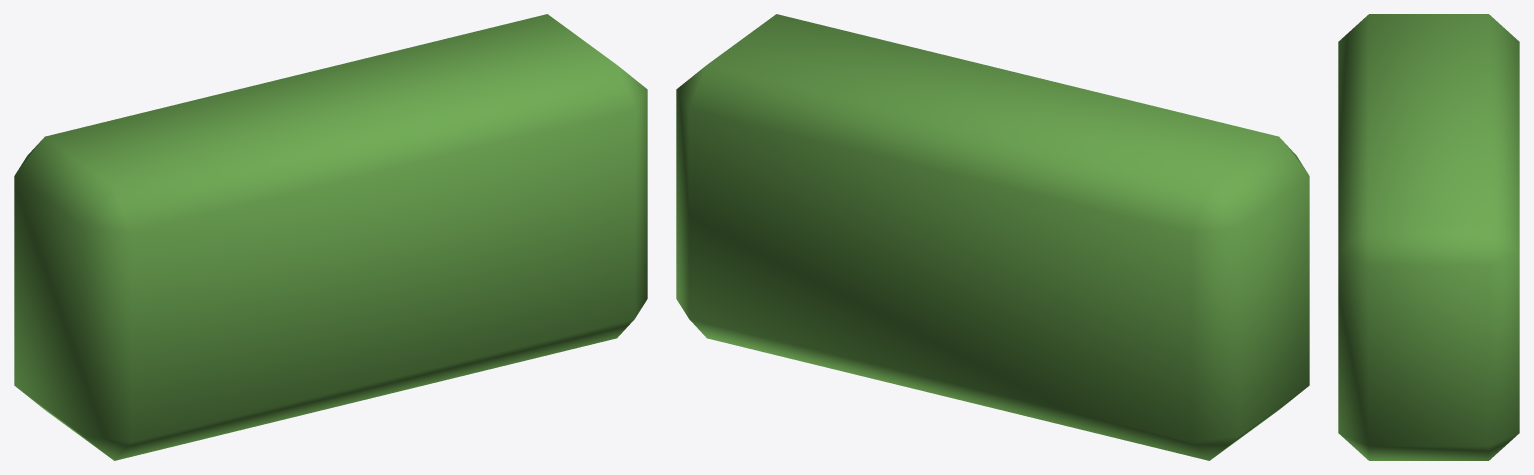
The model's file is Grass_Cube.fbx.
The picture shows the model from 3 angles, left to right: view 1: azimuth 30°, elevation 25°; view 2: azimuth 150°, elevation 25°; view 3: azimuth 270°, elevation 25°; orthographic projection. The views are drawn at different scales.
Parts seen in each view (by area): view 1: Plane.178; view 2: Plane.178; view 3: Plane.178.
Part boxes in pixels (bbox=[...]): Plane.178: bbox=[14, 14, 647, 460]; Plane.178: bbox=[676, 14, 1309, 460]; Plane.178: bbox=[1338, 14, 1519, 460].
Bounding box in the file's own units: 458 × 212 × 148.
